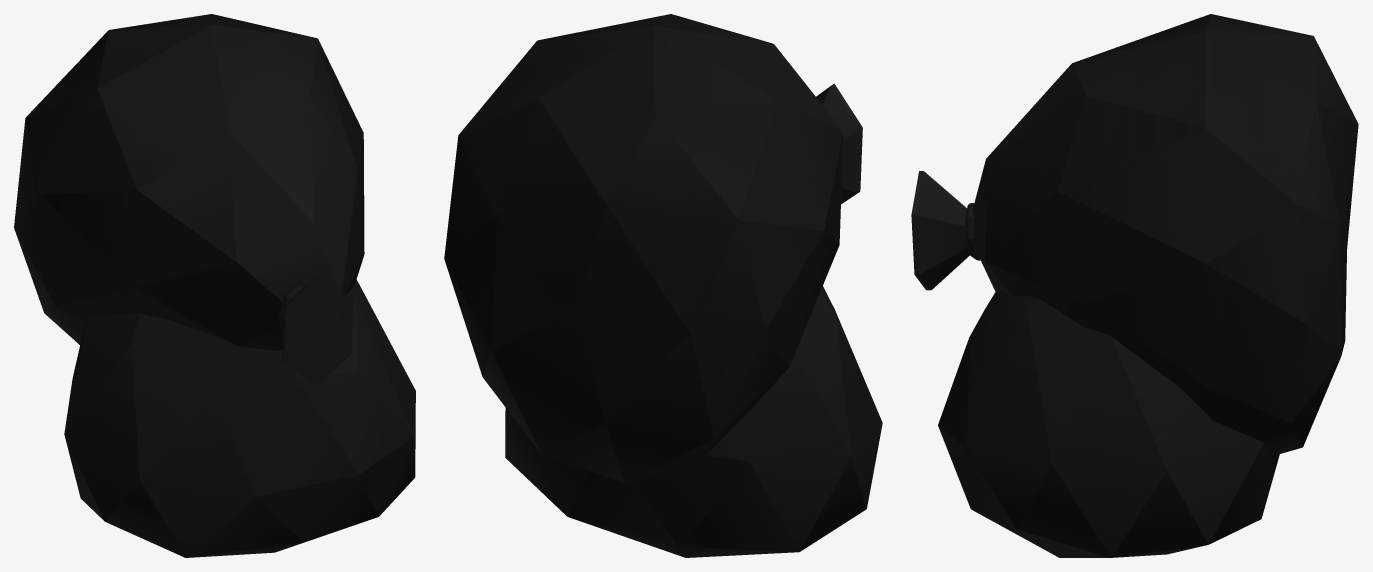
The model's file is trash1-minigame.glb.
The picture shows the model from 3 angles, left to right: view 1: azimuth 30°, elevation 25°; view 2: azimuth 150°, elevation 25°; view 3: azimuth 270°, elevation 25°; orthographic projection. The views are drawn at different scales.
Parts seen in each view (by area): view 1: Icosphere.002, Icosphere.002_Material.001_0.001; view 2: Icosphere.002, Icosphere.002_Material.001_0.001; view 3: Icosphere.002, Icosphere.002_Material.001_0.001.
Boxes of the visible parts, x1=… form: Icosphere.002: x1=14, y1=14, x2=364, y2=385; Icosphere.002_Material.001_0.001: x1=64, y1=279, x2=415, y2=557; Icosphere.002: x1=444, y1=14, x2=862, y2=483; Icosphere.002_Material.001_0.001: x1=505, y1=286, x2=882, y2=557; Icosphere.002: x1=911, y1=14, x2=1358, y2=455; Icosphere.002_Material.001_0.001: x1=938, y1=288, x2=1279, y2=557.
Bounding box in the file's own units: 1.63 × 2.33 × 1.89.
Materials: 1 (1 with a texture image).
